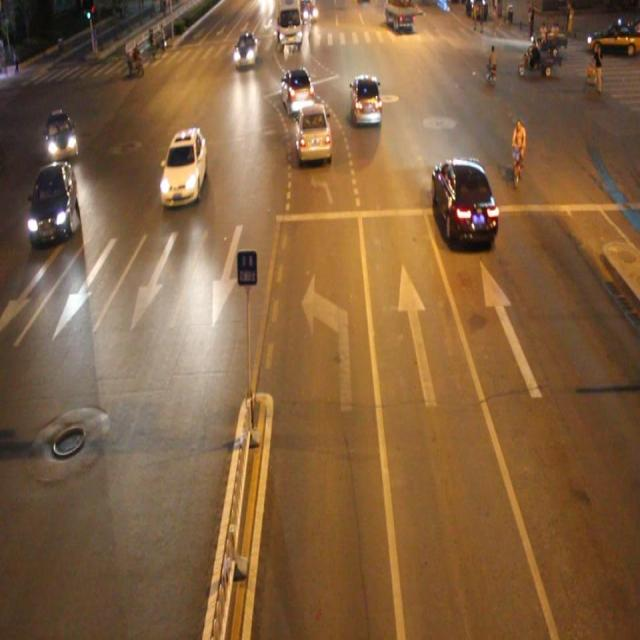car: (430, 157, 497, 246), (28, 162, 77, 242), (159, 127, 206, 205), (295, 104, 334, 164), (280, 67, 316, 119), (44, 109, 80, 161), (349, 72, 382, 128)
